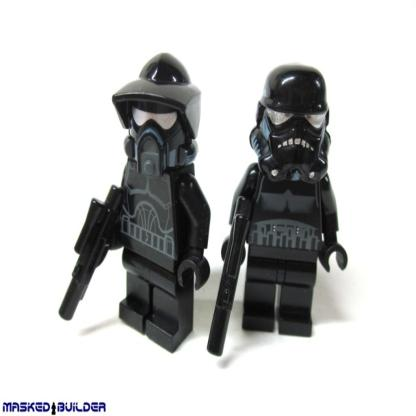Helmet: (248, 67, 333, 185), (112, 58, 208, 162)
